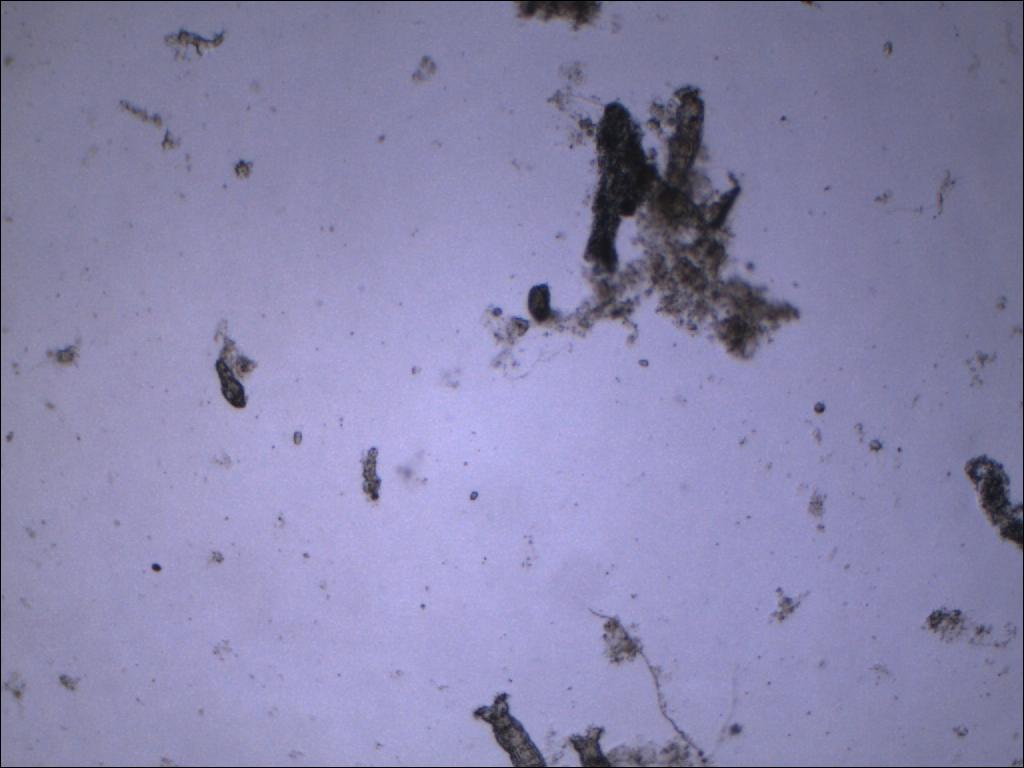amoeba: (580, 97, 661, 285)
